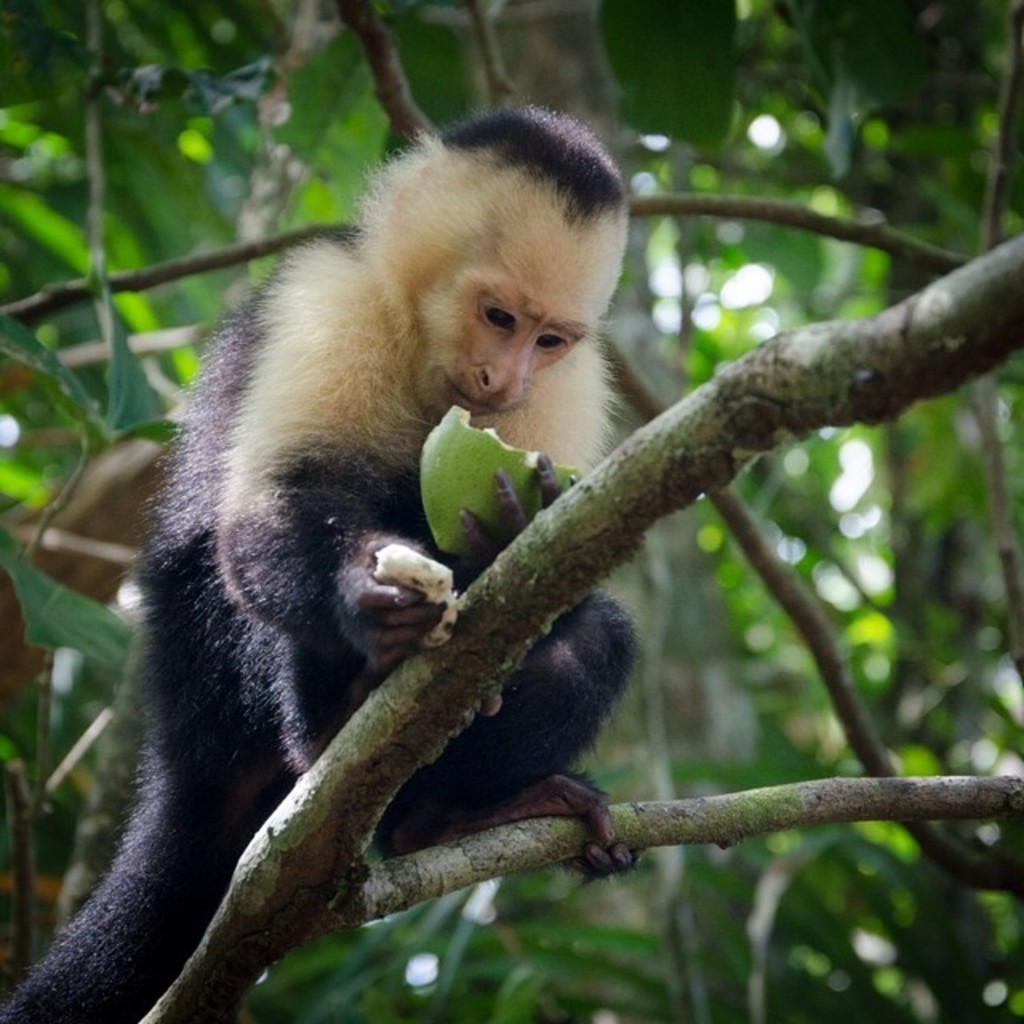face: (412, 192, 606, 475)
